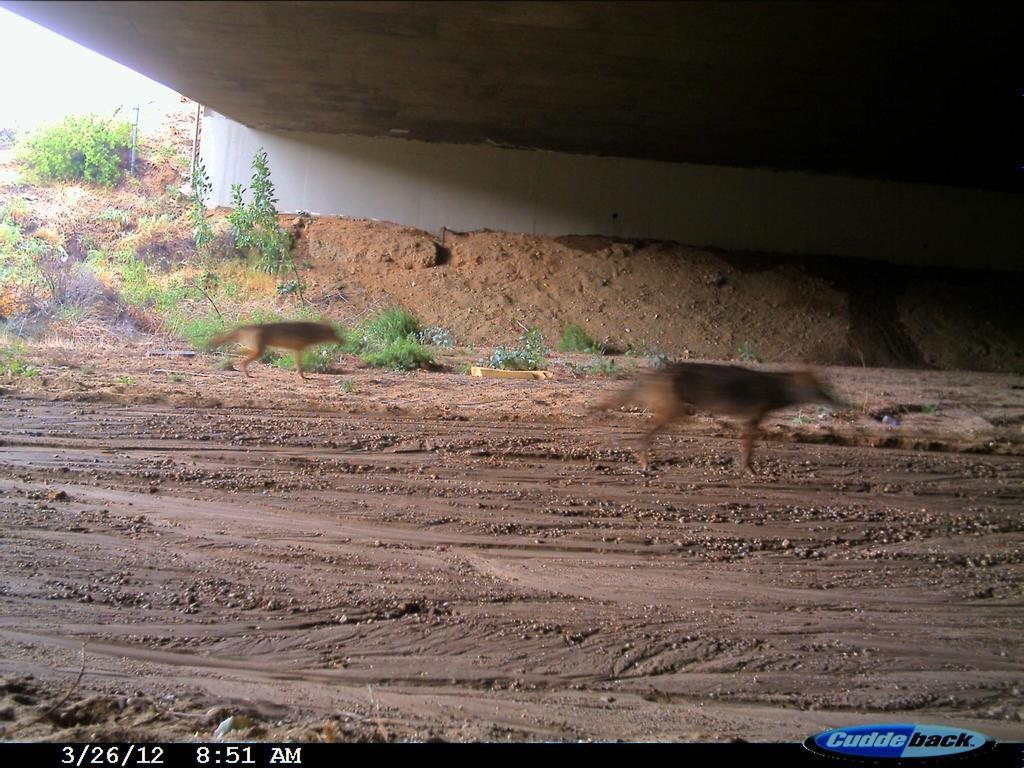coyote: (559, 358, 845, 475), (205, 319, 350, 397)
